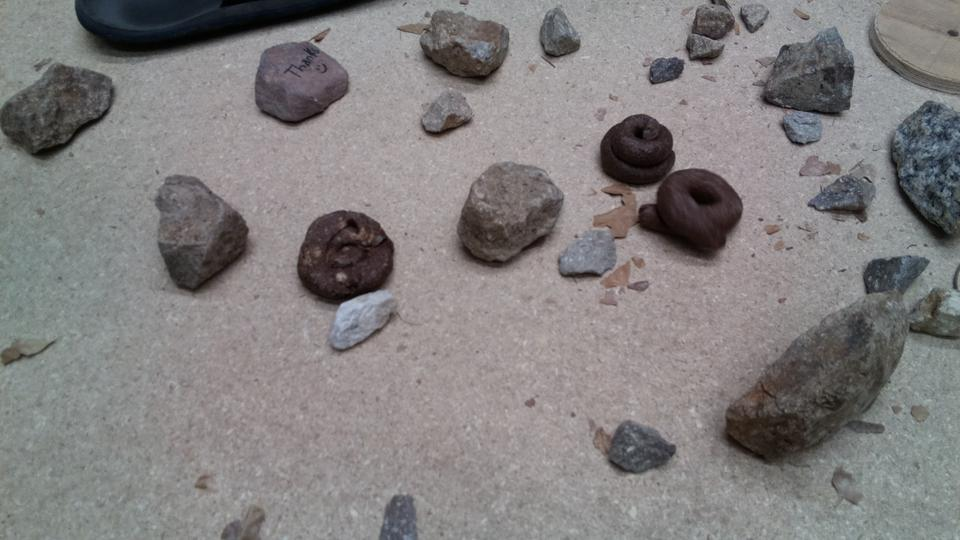poop: (635, 165, 747, 257), (294, 206, 397, 305), (598, 112, 679, 190)
